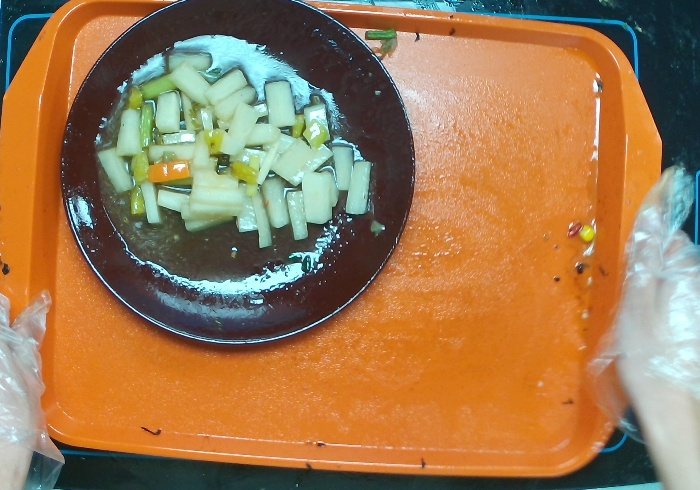HZYJPL-Ka_Fei_Yuan_Pan: (53, 1, 432, 354)
